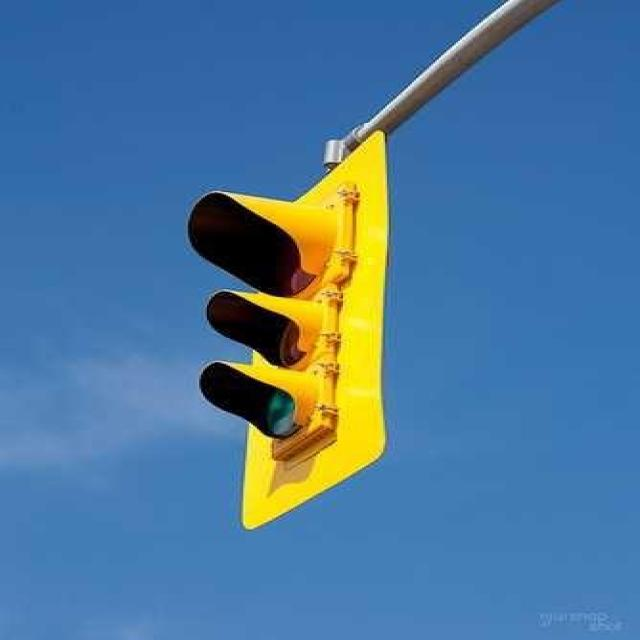Traffic Light -Green-: (183, 178, 362, 475)
